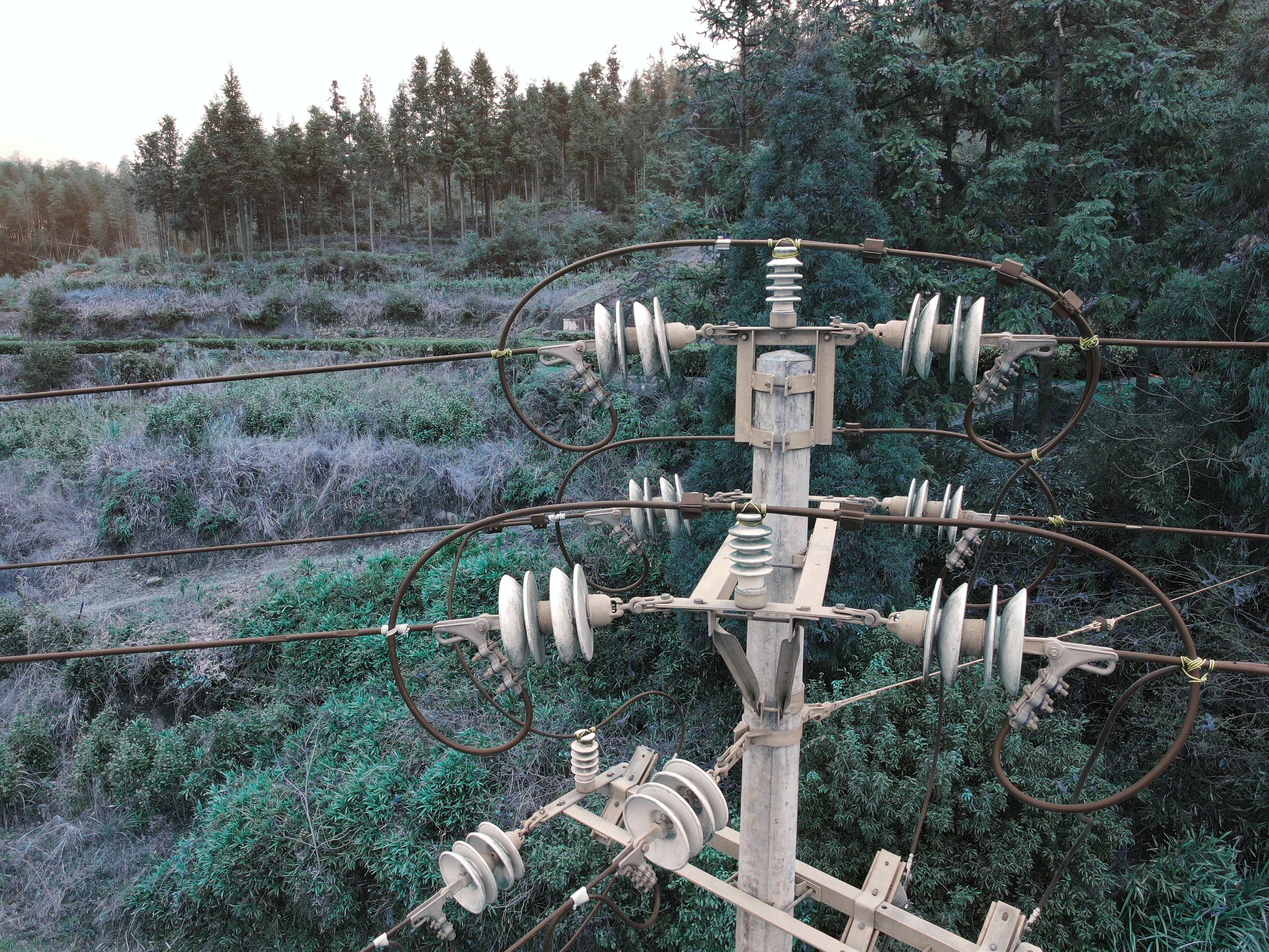severe_soiling_no_discharge_whole: (890, 576, 1030, 700), (618, 755, 732, 876), (494, 566, 624, 671), (873, 288, 989, 389), (590, 295, 699, 386), (433, 819, 530, 913), (624, 469, 712, 546), (878, 471, 967, 547), (725, 509, 774, 605), (762, 242, 804, 326), (567, 728, 599, 792)
